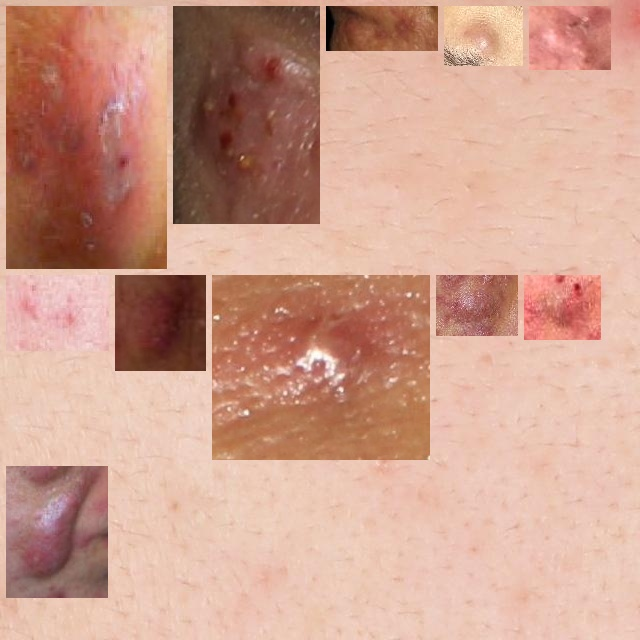nodule: (14, 14, 159, 261), (220, 283, 422, 452), (181, 14, 312, 216), (14, 474, 100, 590), (123, 283, 198, 363), (14, 283, 101, 343), (537, 14, 603, 62), (532, 283, 593, 332), (444, 283, 510, 328), (334, 14, 430, 43), (452, 14, 515, 58)
